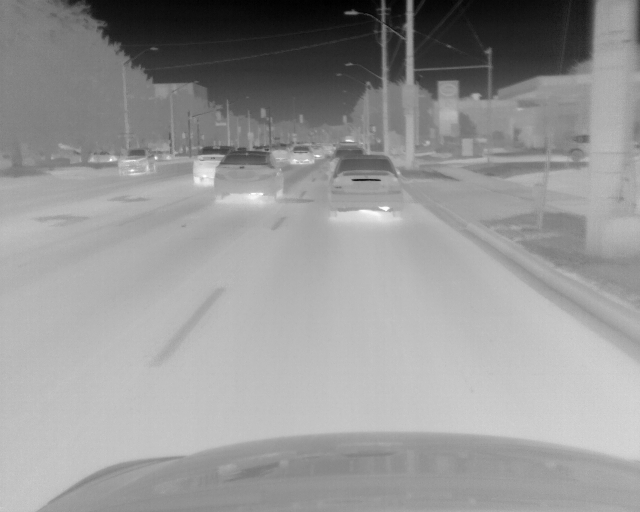car: (328, 154, 401, 212), (213, 148, 283, 202), (192, 145, 226, 185), (116, 148, 153, 178), (562, 132, 591, 164), (288, 144, 313, 166), (332, 142, 365, 155), (311, 144, 327, 160)
